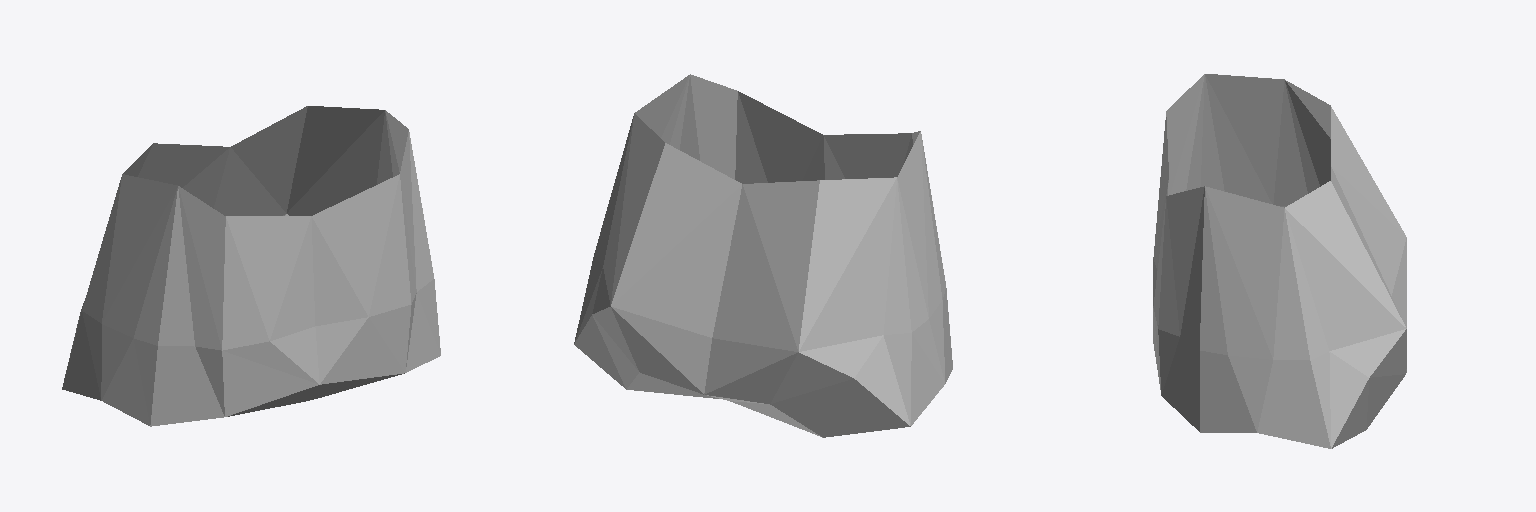
Rendered from TestStomach.obj.
3 views of the same model, side by side, from view 1: azimuth 30°, elevation 25°; view 2: azimuth 150°, elevation 25°; view 3: azimuth 270°, elevation 25° (orthographic).
Visible parts, largest first — view 1: TestStomachArmor_Cube.006; view 2: TestStomachArmor_Cube.006; view 3: TestStomachArmor_Cube.006.
Part boxes in pixels (x1,y1,x2,y2): TestStomachArmor_Cube.006: (62,106,440,426); TestStomachArmor_Cube.006: (574,74,952,437); TestStomachArmor_Cube.006: (1153,74,1406,448).
Size of the model in its own units: 0.395 by 0.2825 by 0.2586.